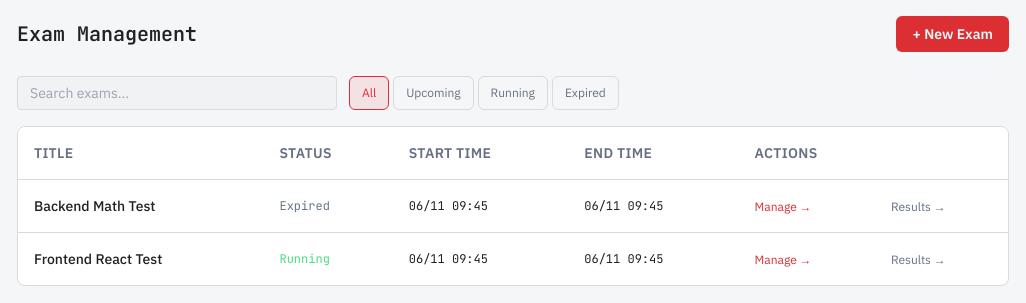
InterviewerDashboard › 4. Can filter exams using search box and status tags
The width and height of the screenshot is (1026, 303).
Expected: the text "Backend Math Test" is shown, [18,180,264,232]
Type "react" into the field with placeholder "Search exams…" at (177, 93), box [17,76,337,110]
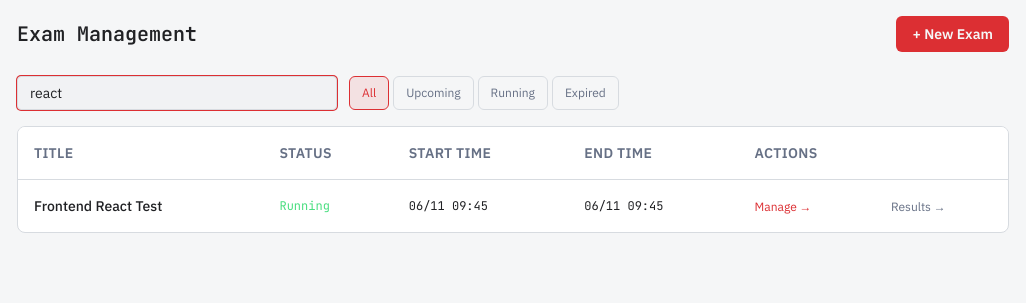
Expected: the text "Frontend React Test" is shown, [18,180,264,232]
Expected: the text "Backend Math Test" is gone
Clear the field with placeholder "Search exams…" at (177, 93), box [17,76,337,110]
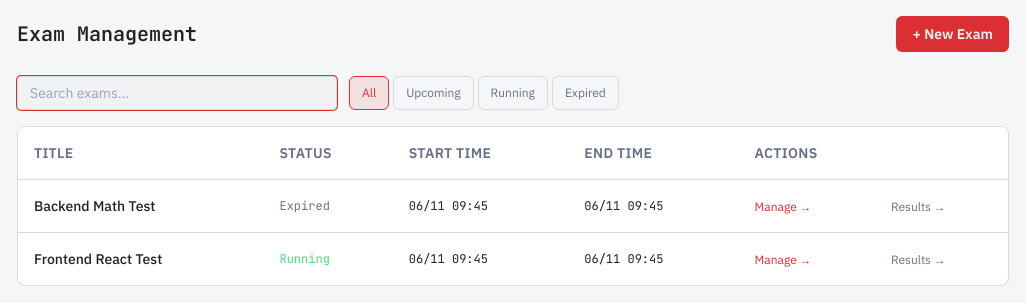
Click the button "Expired" at (585, 93), box [552,76,619,110]
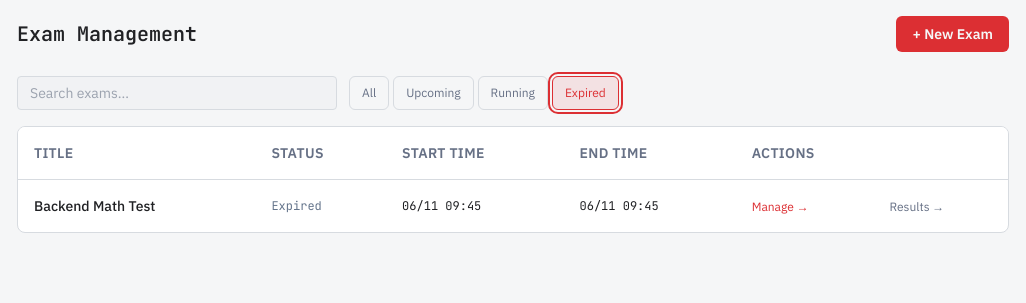
Expected: the text "Backend Math Test" is shown, [18,180,255,232]
Expected: the text "Frontend React Test" is gone
